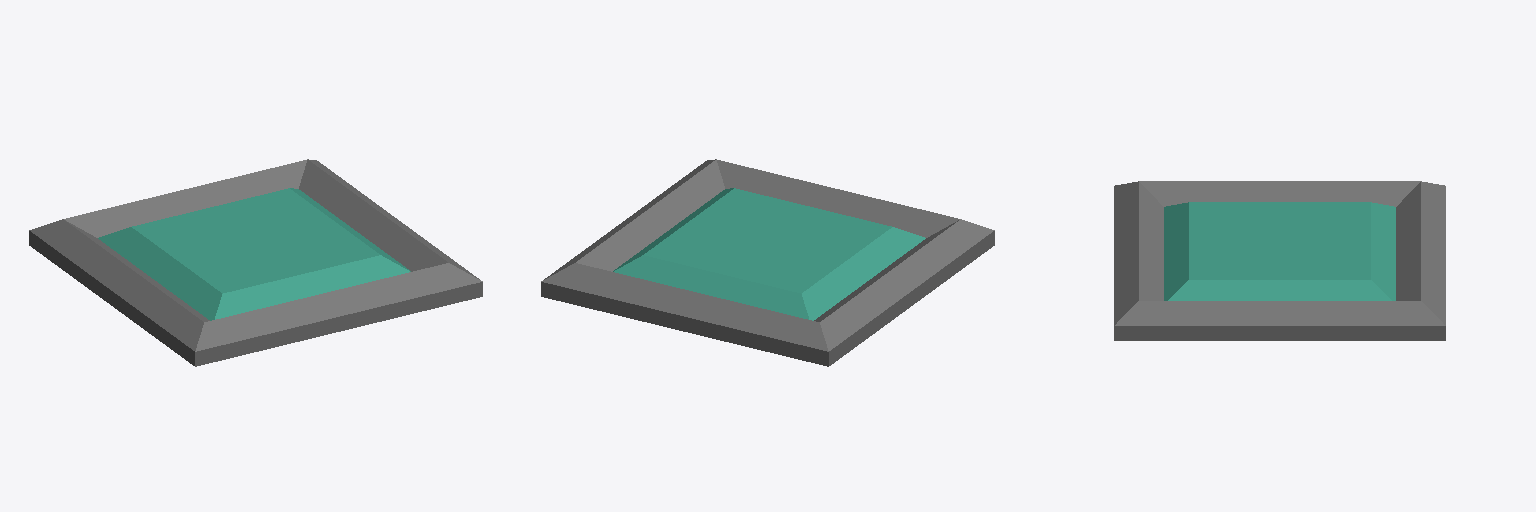
The model's file is Switch_Floor.obj.
3 views of the same model, side by side, from view 1: azimuth 30°, elevation 25°; view 2: azimuth 150°, elevation 25°; view 3: azimuth 270°, elevation 25° (orthographic).
Visible parts, largest first — view 1: object2, object1; view 2: object2, object1; view 3: object2, object1.
Part boxes in pixels (x1,y1,x2,y2): object2: (29, 159, 482, 366); object1: (98, 188, 410, 320); object2: (541, 159, 994, 366); object1: (613, 188, 925, 320); object2: (1114, 181, 1445, 340); object1: (1164, 202, 1395, 300).
Bounding box in the file's own units: 0.5 × 0.05 × 0.5.